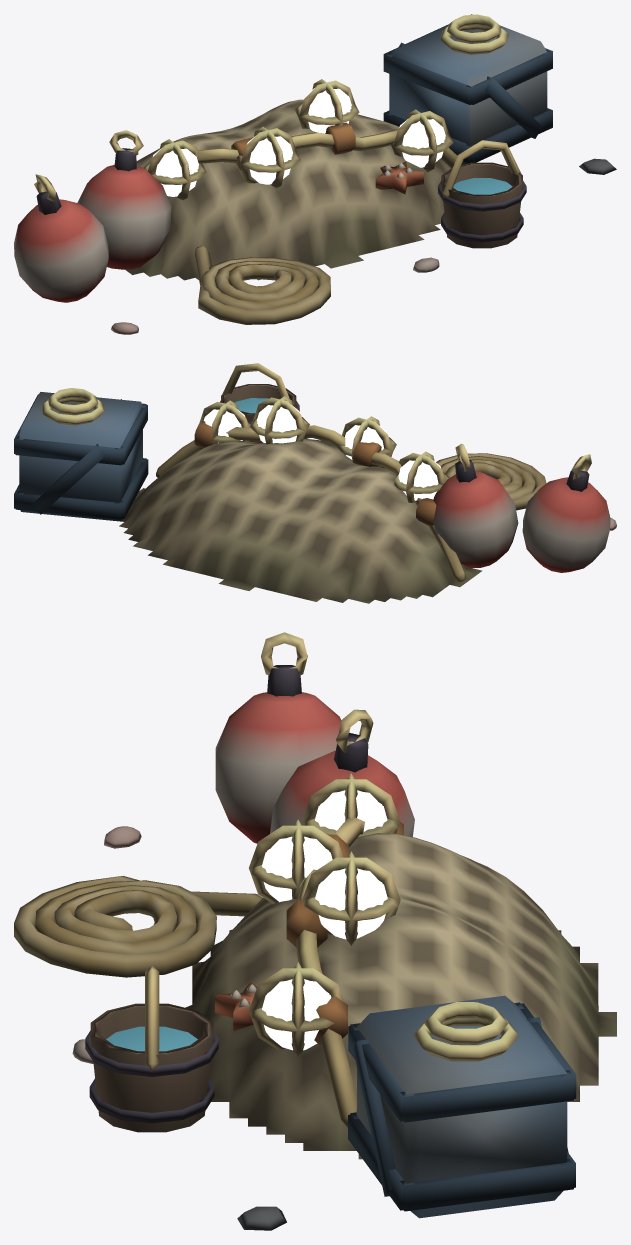
Rendered from dg-tidepool-netPile.glb.
3 views of the same model, one above another, from view 1: azimuth 30°, elevation 25°; view 2: azimuth 150°, elevation 25°; view 3: azimuth 270°, elevation 25° (orthographic). The views are drawn at different scales.
Visible parts, largest first — view 1: body, glow, water; view 2: body, glow; view 3: body, glow, water.
Part boxes in pixels (box(x1,y1,x2,y2)): body: box(14, 14, 616, 334); glow: box(153, 88, 445, 196); water: box(453, 178, 512, 194); body: box(14, 363, 616, 603); glow: box(203, 404, 440, 500); body: box(14, 632, 616, 1230); glow: box(262, 790, 387, 1050); water: box(106, 1026, 197, 1051).
Size of the model in its own units: 2.29 by 0.4911 by 1.36.
